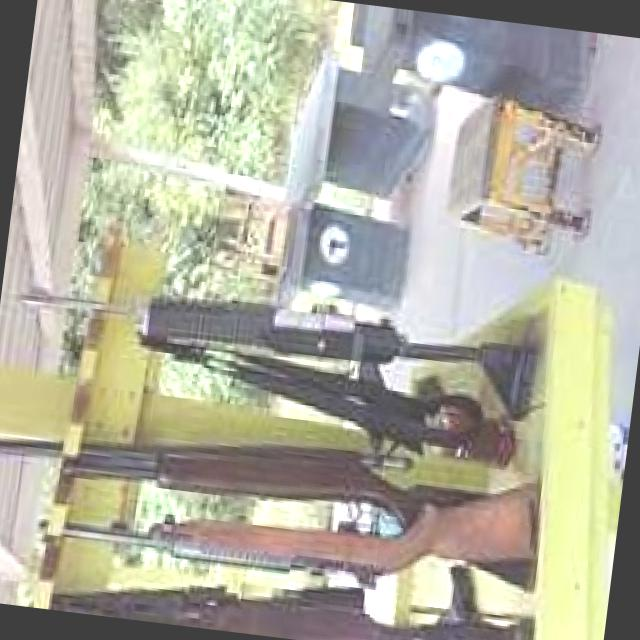long weapon: (21, 461, 553, 639), (2, 255, 570, 419)
